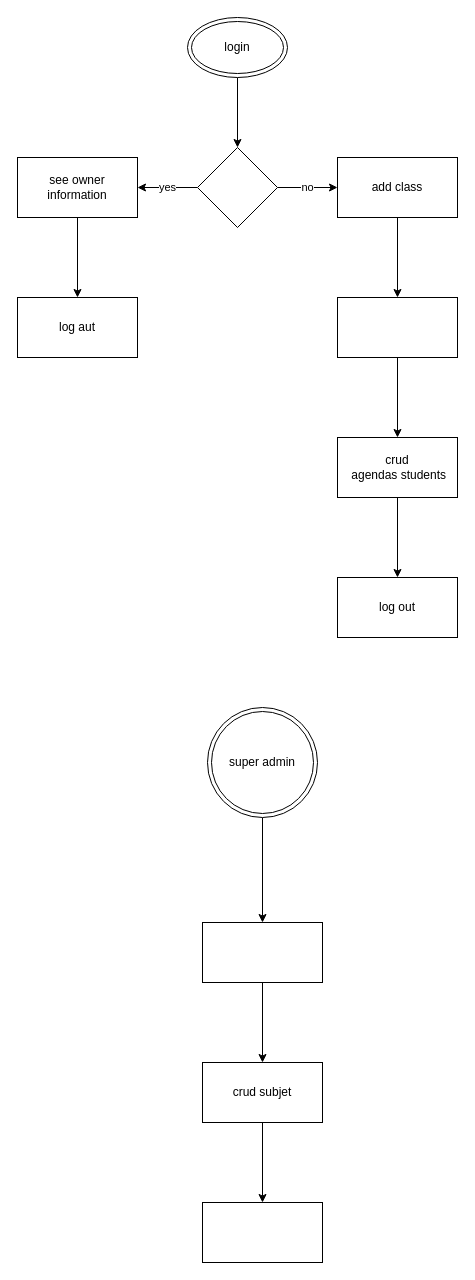
Some shapes in this 475 by 1280 pixel diagram are drawn without their labels. Each missing label, with the centre of its shape:
"add student , teacher" belongs at point 262,952.
"assessment student" belongs at point 397,327.
"crut teacher, group" belongs at point 262,1232.
"studet" belongs at point 237,187.
